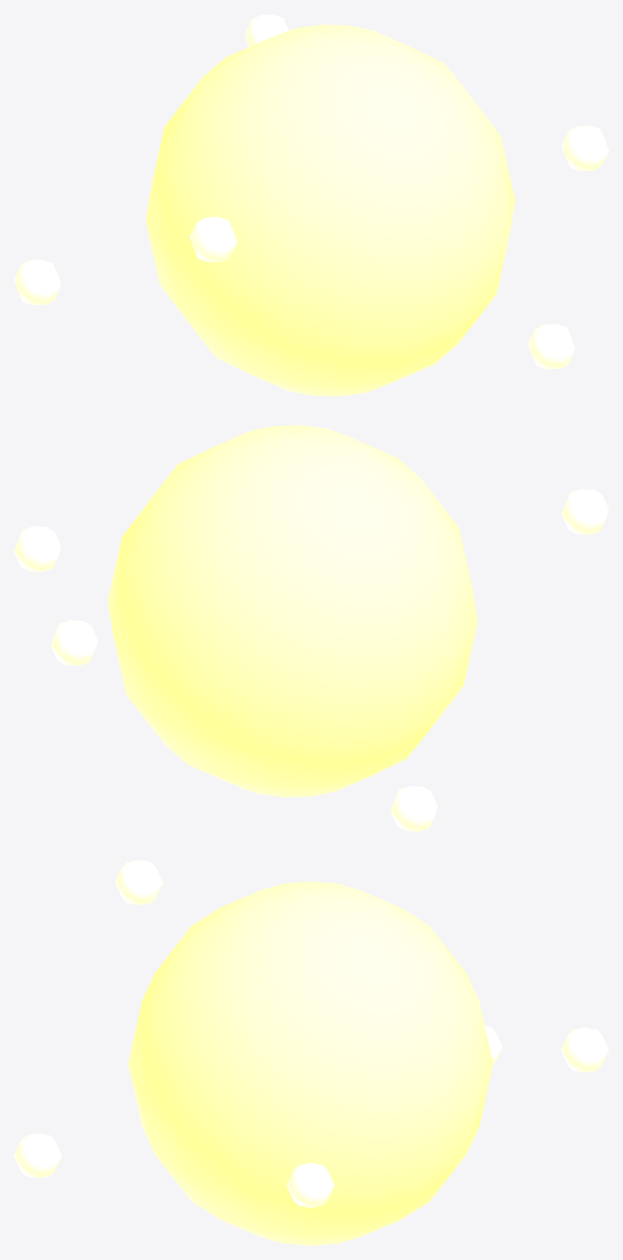
File: seelenlicht.glb
3 renders of one model, top to bottom at view 1: azimuth 30°, elevation 25°; view 2: azimuth 150°, elevation 25°; view 3: azimuth 270°, elevation 25°, orthographic. The views are drawn at different scales.
Parts seen in each view (by area): view 1: Sphere; view 2: Sphere; view 3: Sphere.
Part boxes in pixels (box(x1,y1,x2,y2)): Sphere: box(14, 14, 608, 396); Sphere: box(14, 425, 608, 831); Sphere: box(14, 860, 608, 1245).
Size of the model in its own units: 0.1188 by 0.076 by 0.1239.
